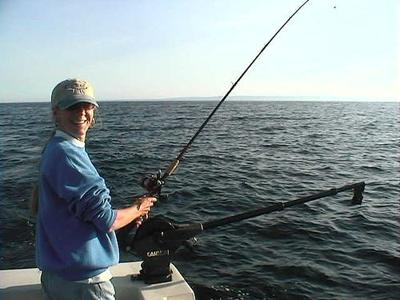person: (36, 79, 157, 300)
